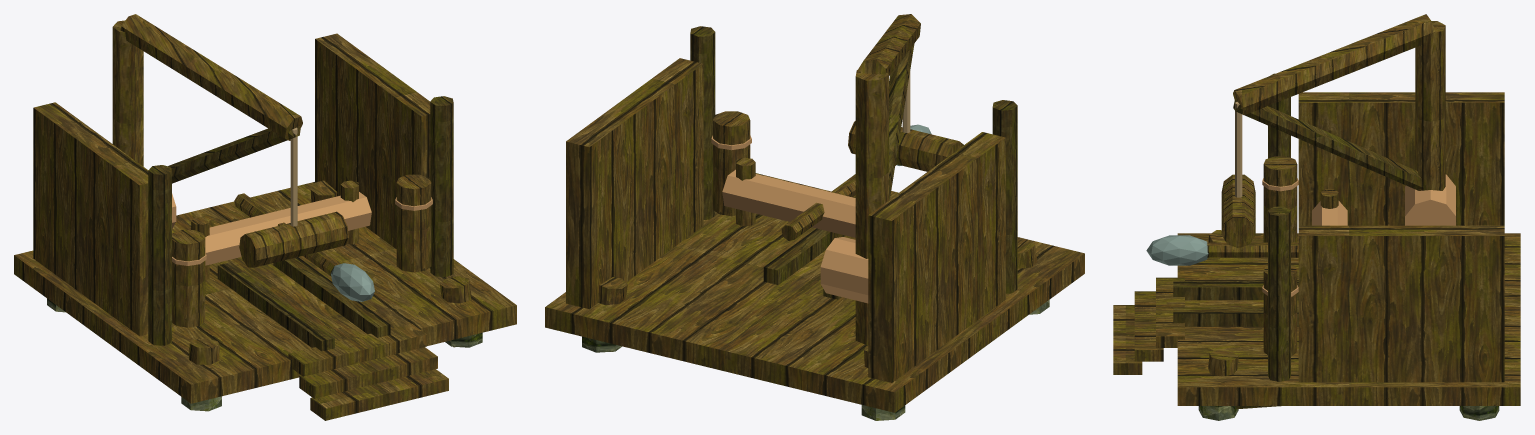
Rendered from 03-driftwood-wharf.glb.
3 views of the same model, side by side, from view 1: azimuth 30°, elevation 25°; view 2: azimuth 150°, elevation 25°; view 3: azimuth 270°, elevation 25° (orthographic). The views are drawn at different scales.
Parts seen in each view (by area): view 1: 03-driftwood-wharf; view 2: 03-driftwood-wharf; view 3: 03-driftwood-wharf.
Part boxes in pixels (bbox=[...]): 03-driftwood-wharf: bbox=[14, 14, 516, 420]; 03-driftwood-wharf: bbox=[545, 14, 1084, 420]; 03-driftwood-wharf: bbox=[1113, 14, 1520, 420].
Bounding box in the file's own units: 3.4 × 3.03 × 3.8.
6 materials, 3 textured.
